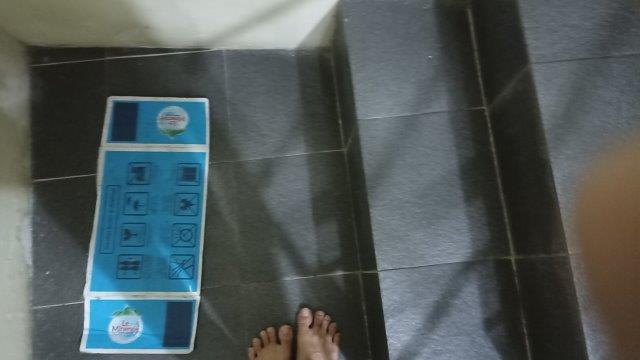kardus: (81, 97, 207, 352)
